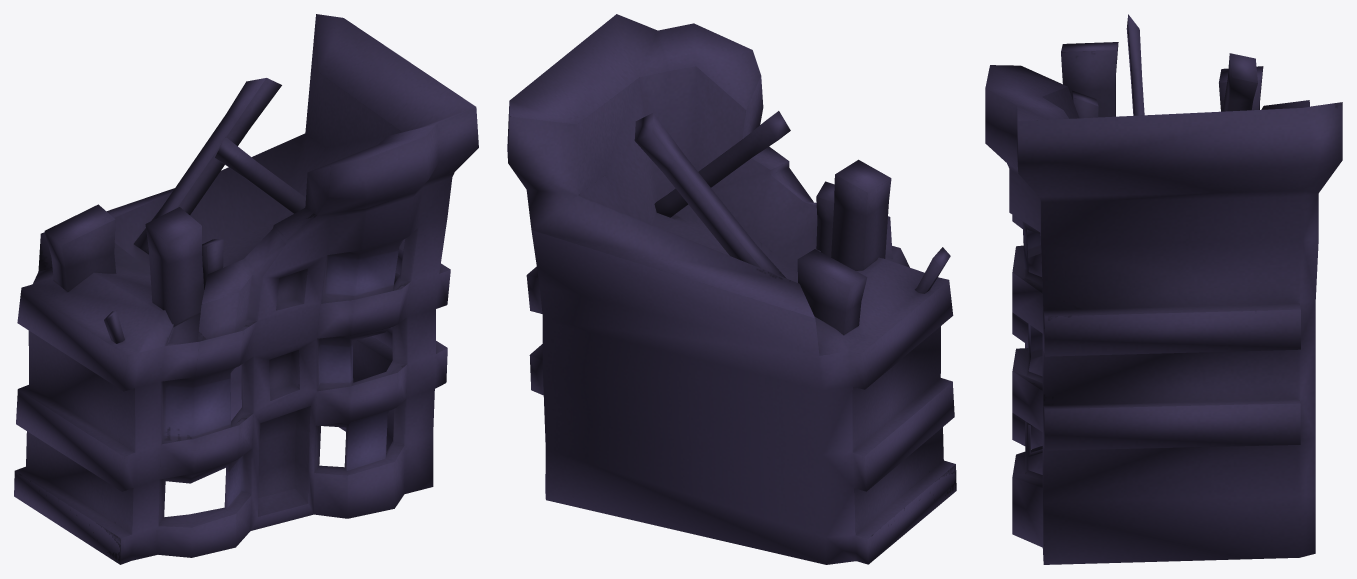
File: burntbldg.fbx
3 views of the same model, side by side, from view 1: azimuth 30°, elevation 25°; view 2: azimuth 150°, elevation 25°; view 3: azimuth 270°, elevation 25° (orthographic). The views are drawn at different scales.
Visible parts, largest first — view 1: burntbldg; view 2: burntbldg; view 3: burntbldg.
Part boxes in pixels (<box>): burntbldg: <box>14,14,478,564</box>; burntbldg: <box>507,14,956,564</box>; burntbldg: <box>985,14,1342,564</box>.
Bounding box in the file's own units: 0.1199 × 0.1232 × 0.0848.
Materials: 1 (1 with a texture image).
